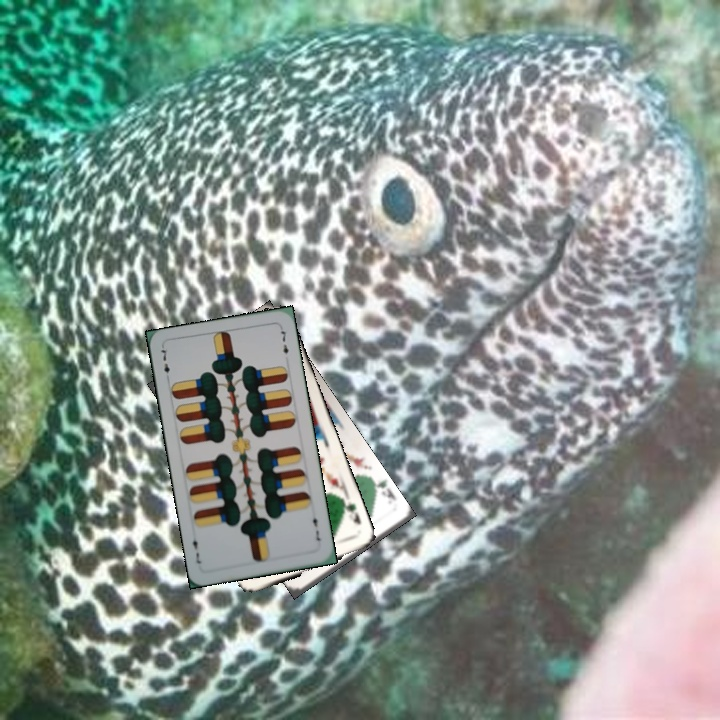E7: (156, 344, 172, 384), (309, 509, 323, 543)
GK: (368, 476, 399, 503), (339, 497, 363, 526)
